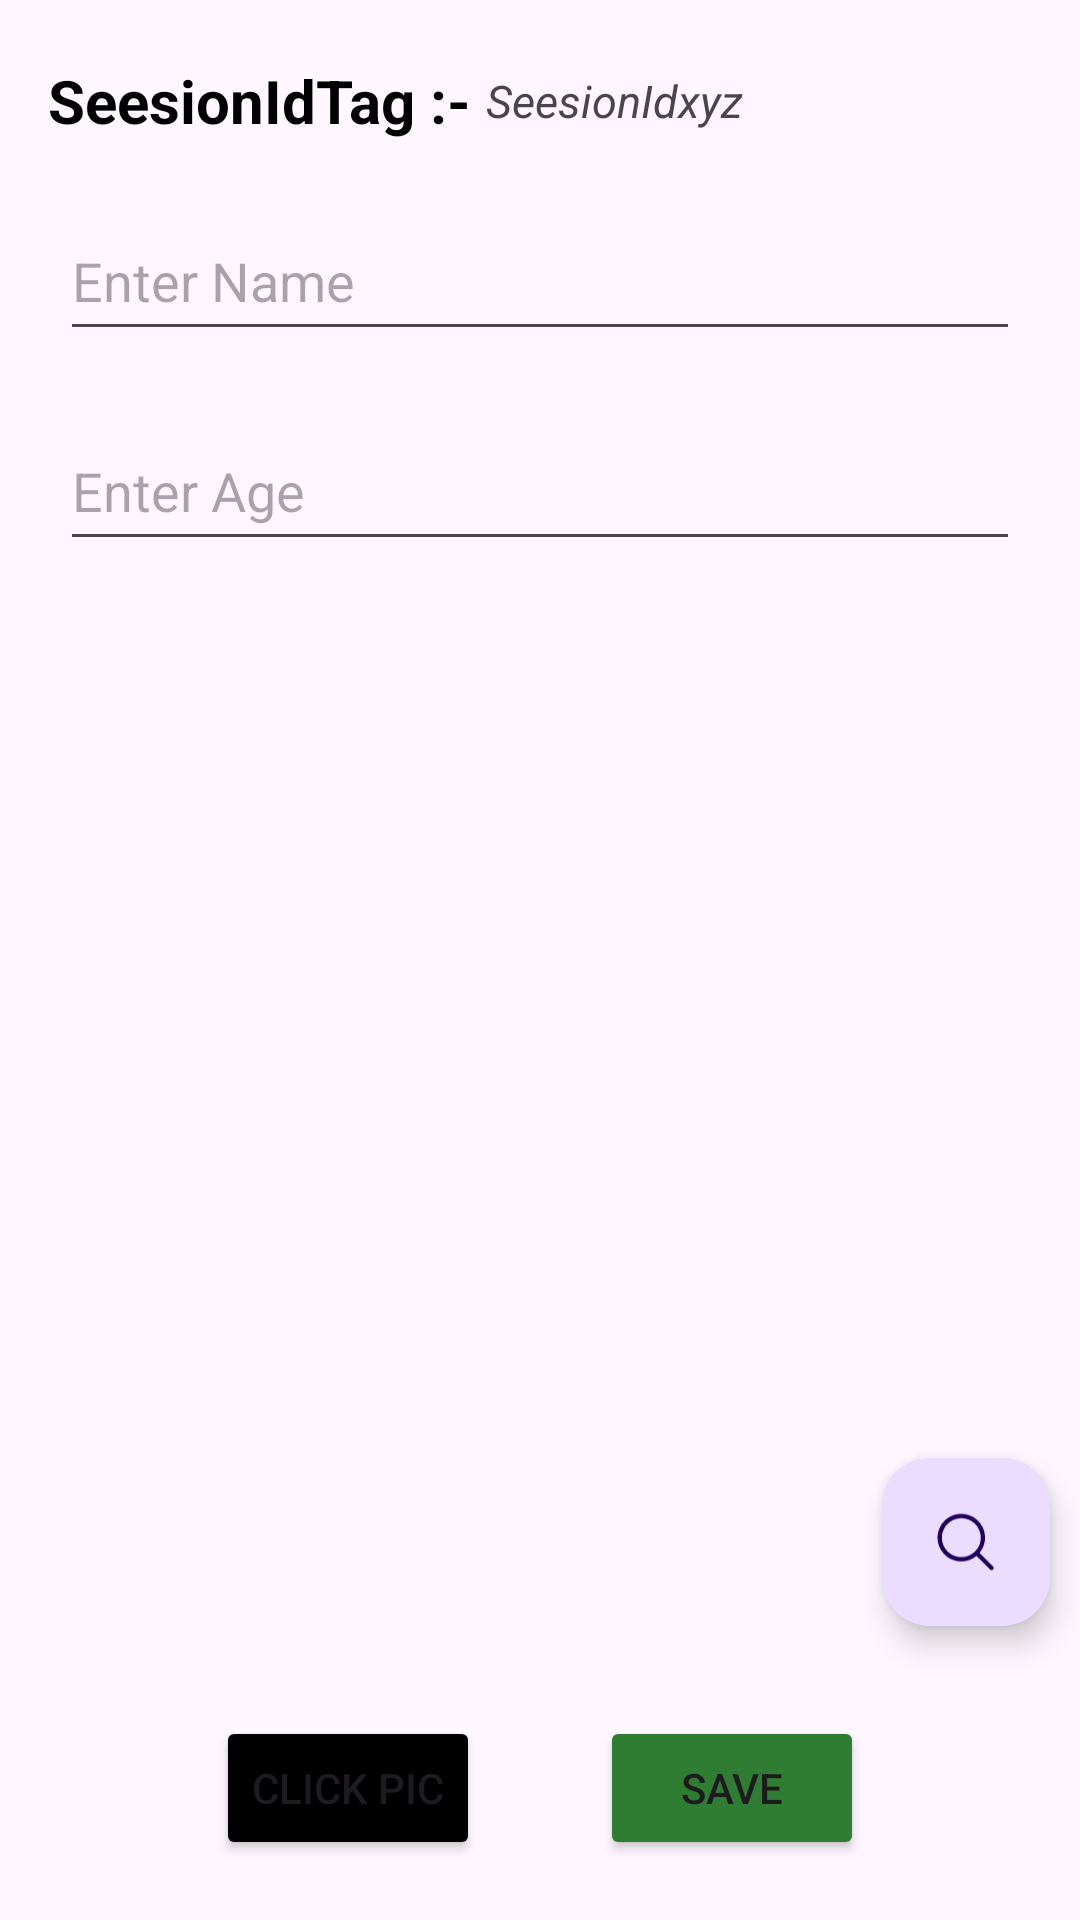

Screen size 1080*1920. Icon name, then its center in pixels as point (x, y):
searchicon: point (966, 1542)
